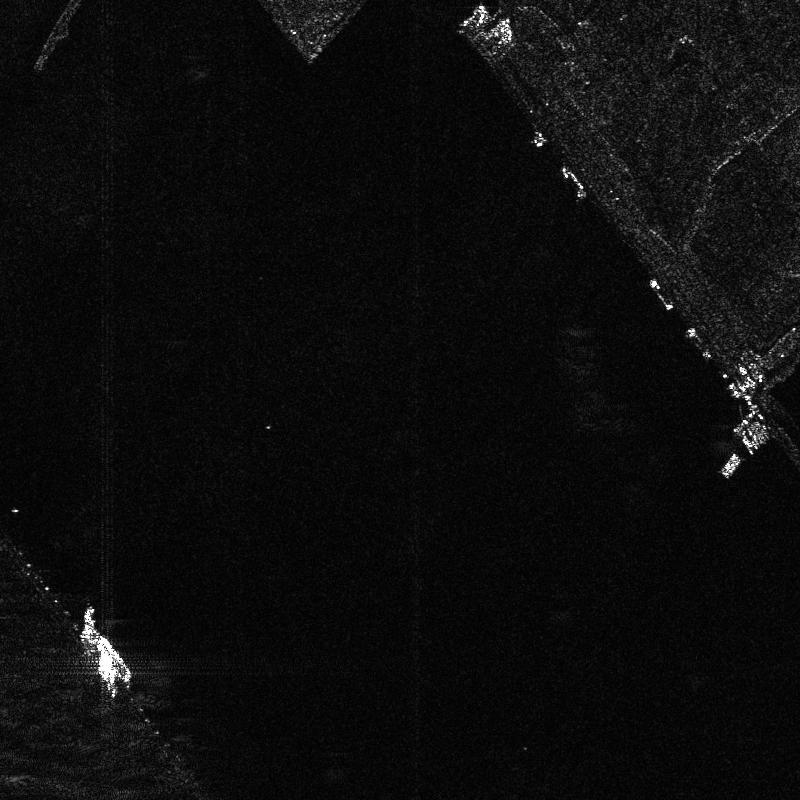ship: (82, 607, 131, 682), (562, 167, 586, 198), (650, 280, 673, 310), (687, 328, 710, 357), (721, 454, 740, 478), (728, 383, 740, 397)
